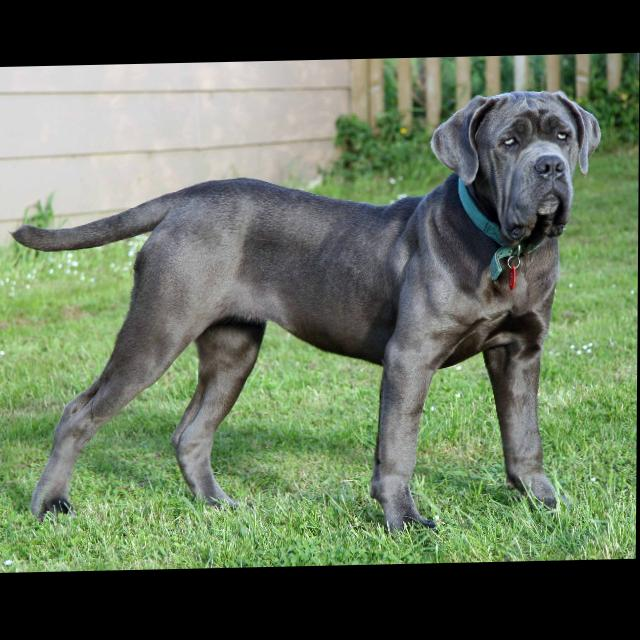mastino_napoletano: (8, 92, 604, 547)
